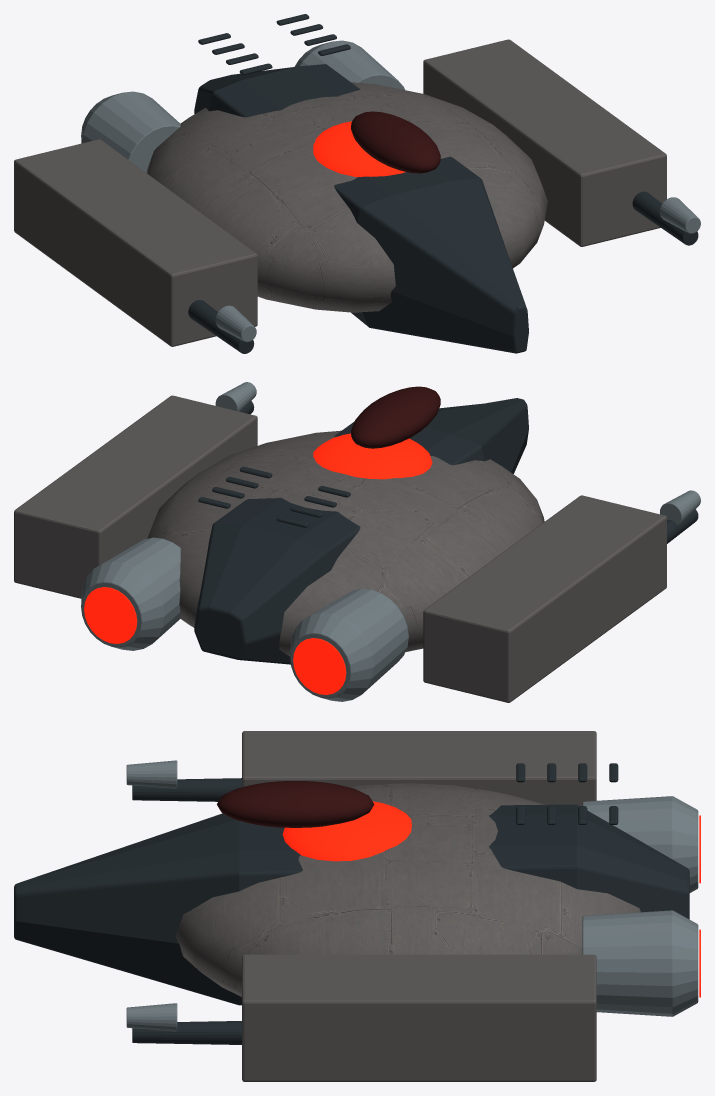
File: space_regulator_drone.glb
3 renders of one model, top to bottom at view 1: azimuth 30°, elevation 25°; view 2: azimuth 150°, elevation 25°; view 3: azimuth 270°, elevation 25°, orthographic. The views are drawn at different scales.
Visible parts, largest first — view 1: regulator_drone_surface_0, regulator_drone_surface_1, regulator_drone_surface_3, regulator_drone_surface_4, regulator_drone_surface_2; view 2: regulator_drone_surface_0, regulator_drone_surface_1, regulator_drone_surface_3, regulator_drone_surface_2, regulator_drone_surface_4; view 3: regulator_drone_surface_0, regulator_drone_surface_1, regulator_drone_surface_3, regulator_drone_surface_4, regulator_drone_surface_2.
Boxes of the visible parts, x1=… form: regulator_drone_surface_0: x1=14, y1=39, x2=666, y2=346; regulator_drone_surface_1: x1=188, y1=14, x2=698, y2=353; regulator_drone_surface_3: x1=81, y1=40, x2=700, y2=341; regulator_drone_surface_4: x1=351, y1=111, x2=440, y2=173; regulator_drone_surface_2: x1=313, y1=121, x2=405, y2=177; regulator_drone_surface_0: x1=14, y1=395, x2=666, y2=702; regulator_drone_surface_1: x1=194, y1=398, x2=698, y2=664; regulator_drone_surface_3: x1=81, y1=382, x2=700, y2=701; regulator_drone_surface_2: x1=84, y1=433, x2=432, y2=694; regulator_drone_surface_4: x1=351, y1=386, x2=440, y2=448; regulator_drone_surface_0: x1=175, y1=731, x2=640, y2=1081; regulator_drone_surface_1: x1=14, y1=763, x2=689, y2=1044; regulator_drone_surface_3: x1=126, y1=760, x2=698, y2=1031; regulator_drone_surface_4: x1=217, y1=781, x2=374, y2=827; regulator_drone_surface_2: x1=282, y1=801, x2=700, y2=997.
Size of the model in its own units: 11.4 by 3.95 by 12.2.
Materials: 5 (1 with a texture image).
